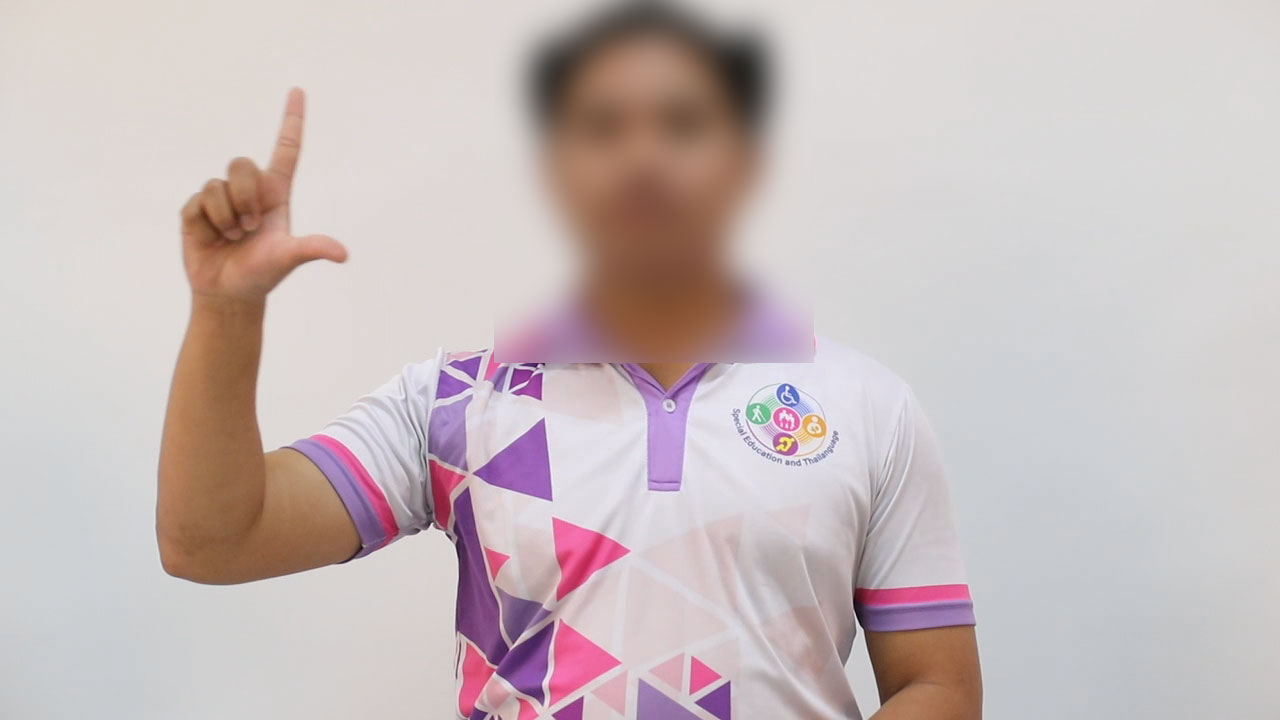lor: (163, 77, 366, 319)
